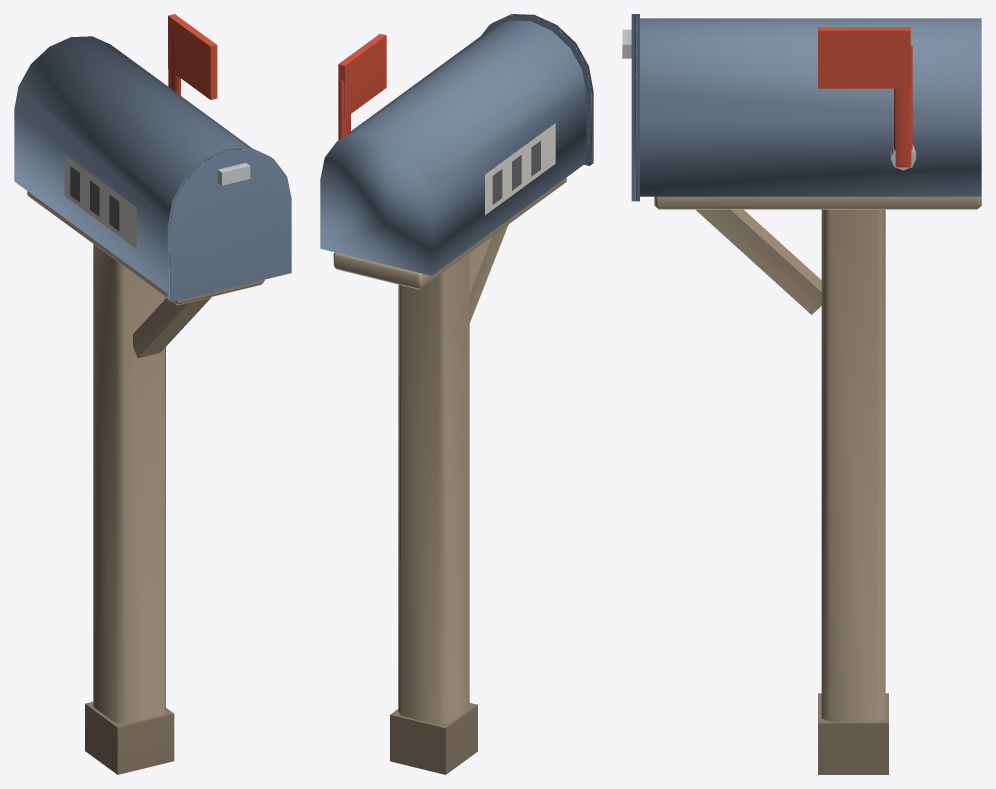
Rendered from mailbox.glb.
3 renders of one model, left to right at view 1: azimuth 30°, elevation 25°; view 2: azimuth 150°, elevation 25°; view 3: azimuth 270°, elevation 25°, orthographic. The views are drawn at different scales.
Parts seen in each view (by area): view 1: suburb_mailbox; view 2: suburb_mailbox; view 3: suburb_mailbox.
Boxes of the visible parts, left/top/right/bottom form: suburb_mailbox: left=14, top=14, right=291, bottom=774; suburb_mailbox: left=320, top=14, right=593, bottom=774; suburb_mailbox: left=622, top=14, right=981, bottom=774.
Bounding box in the file's own units: 0.232 × 1.19 × 0.505.
